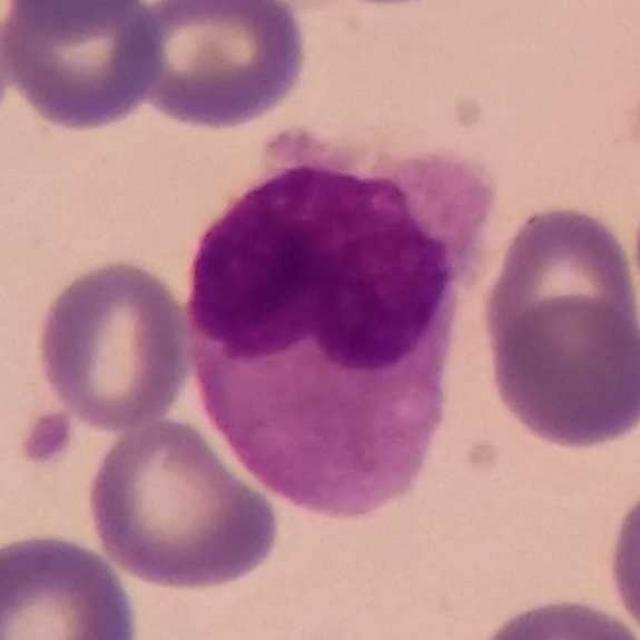Monocyte: (187, 131, 489, 523)
Platelets: (22, 408, 80, 466)
RBC: (82, 414, 284, 593), (476, 200, 640, 398), (31, 254, 194, 433), (482, 291, 640, 453), (121, 0, 312, 132), (0, 0, 167, 134), (0, 527, 144, 640), (464, 591, 640, 640), (602, 469, 640, 640)
